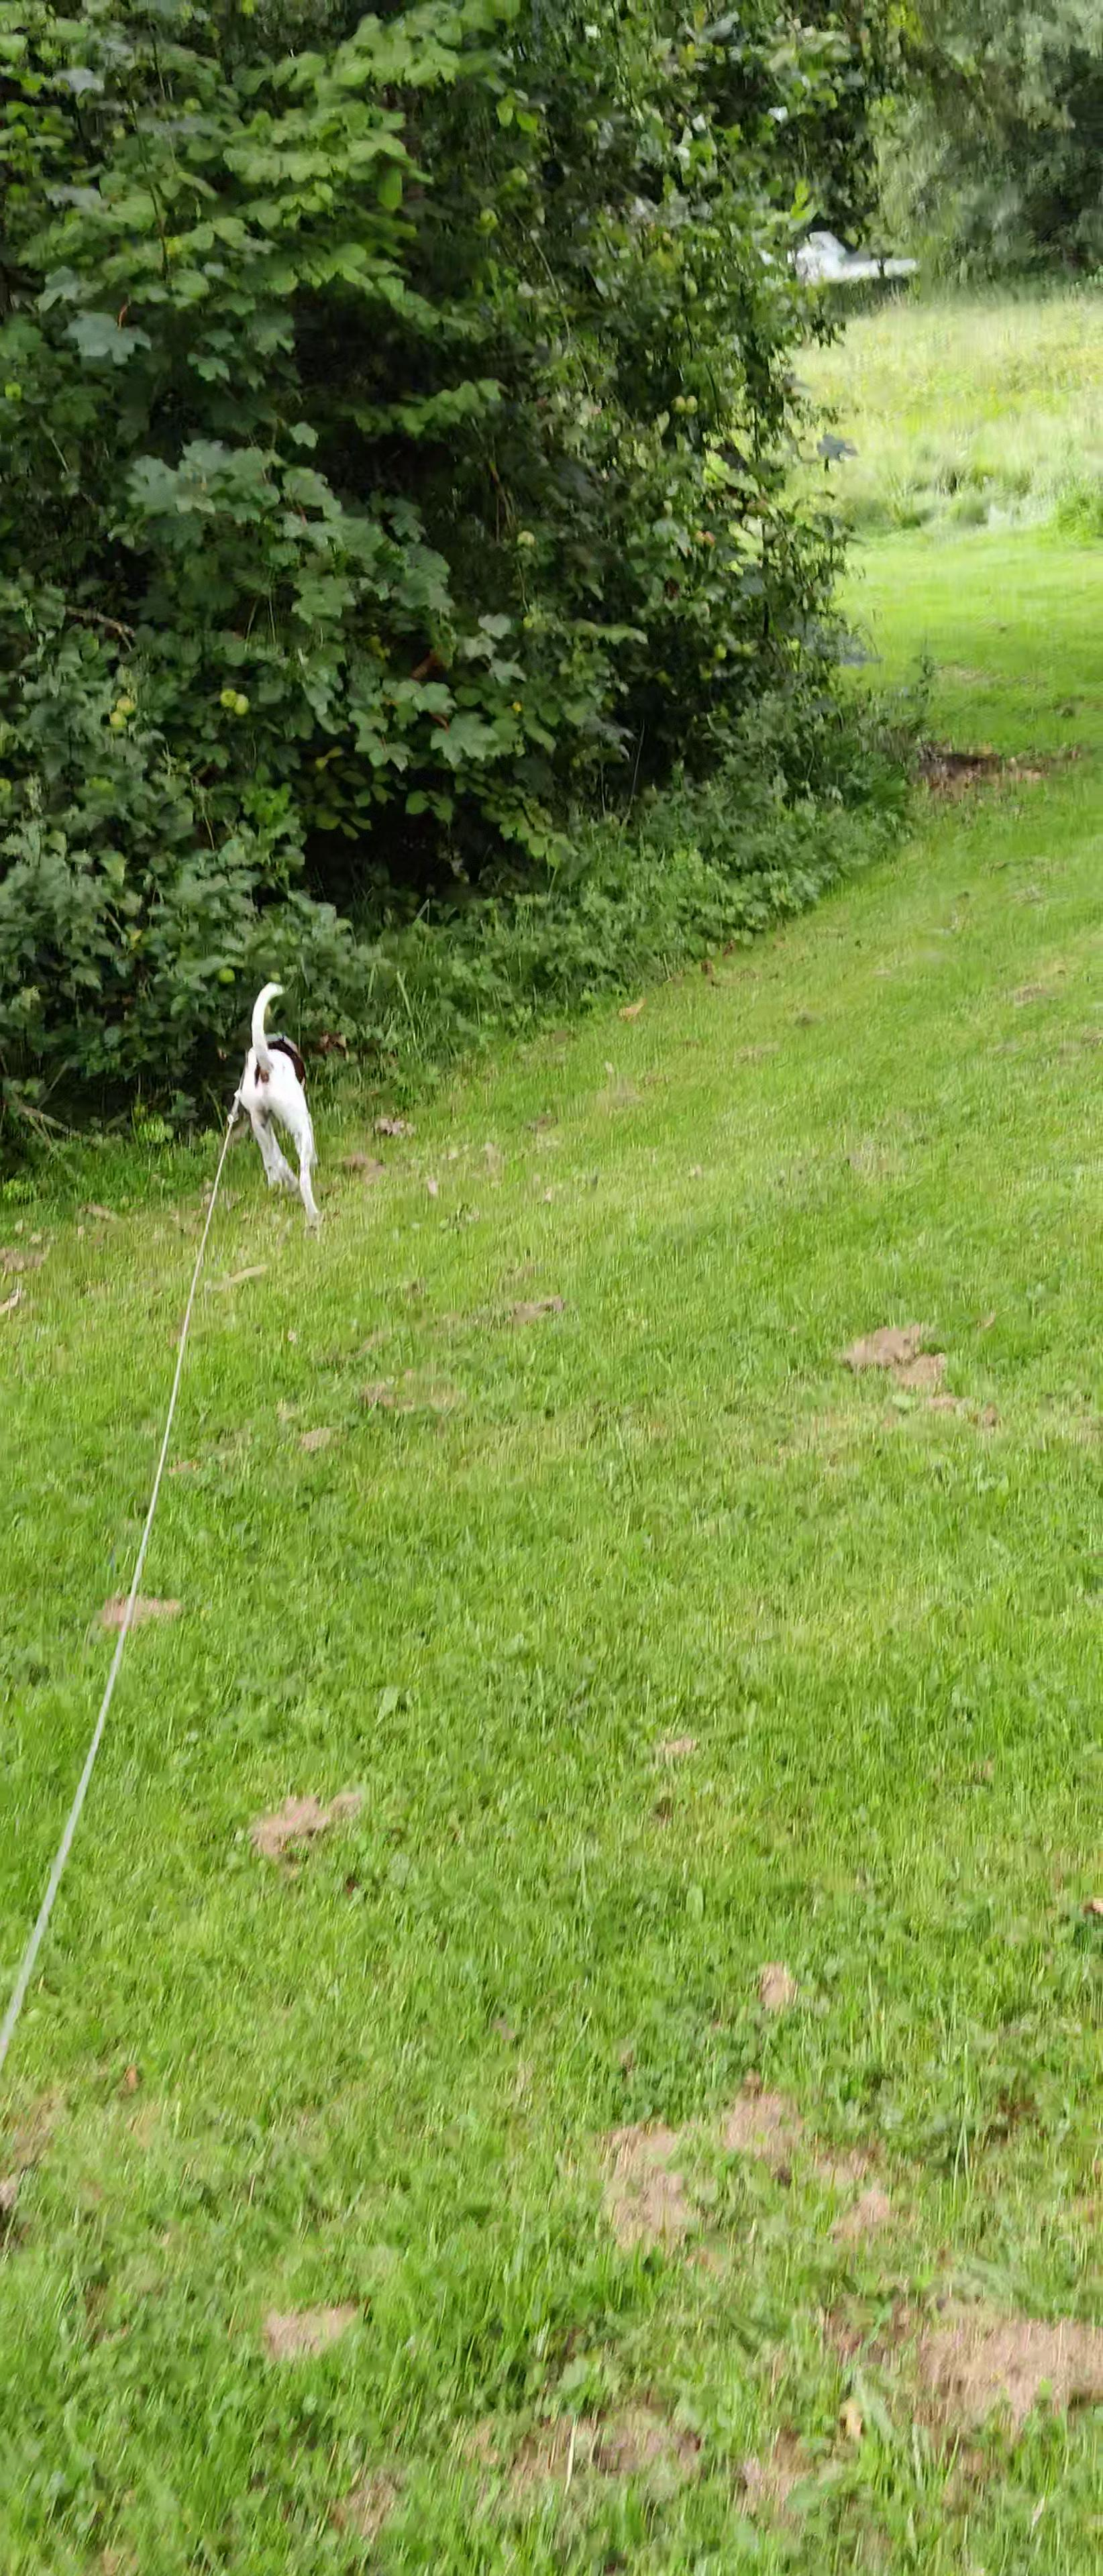Dog: (228, 966, 330, 1237)
